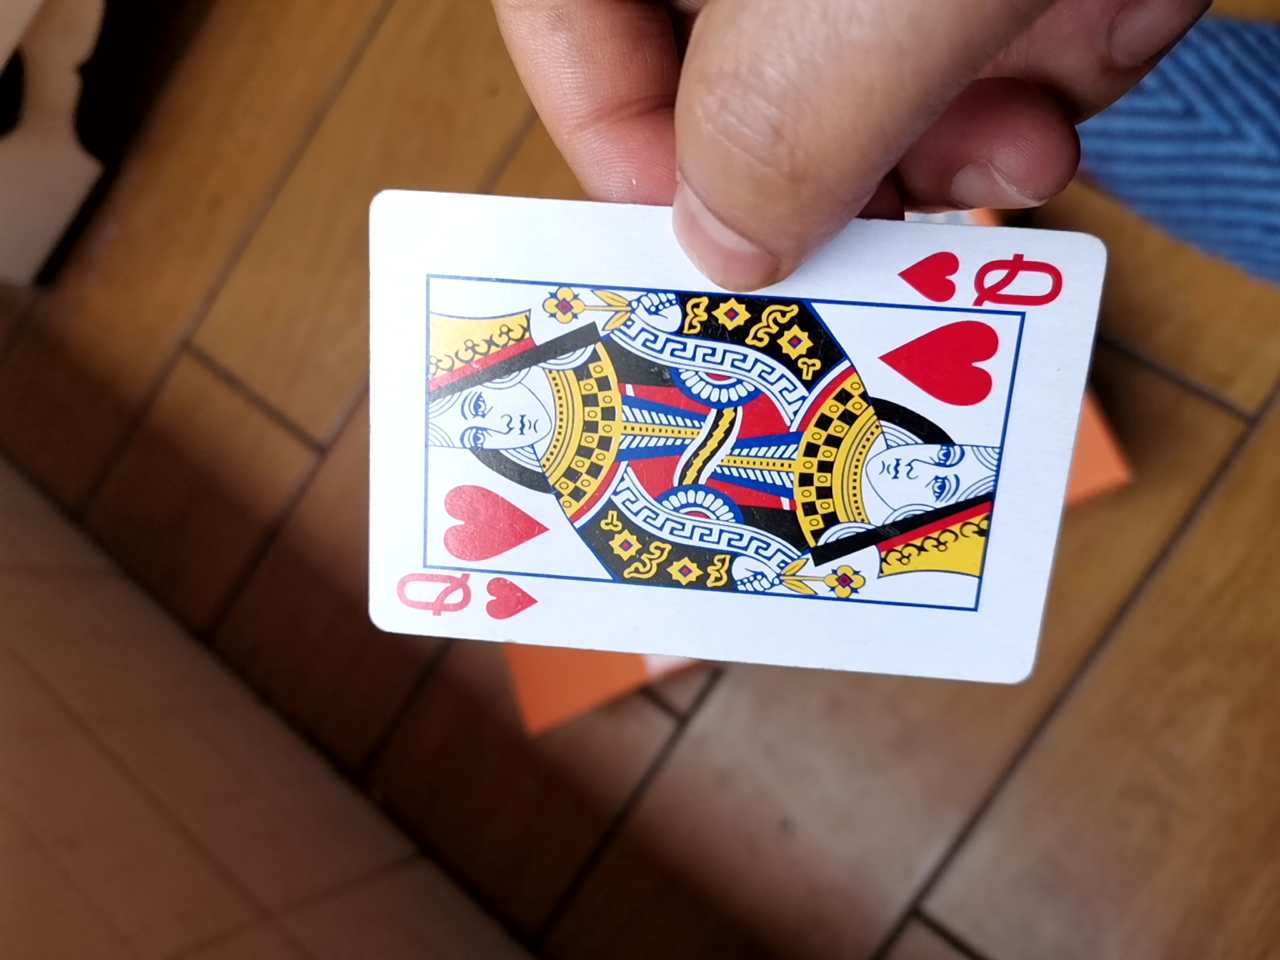hx q: (340, 187, 1104, 690)
